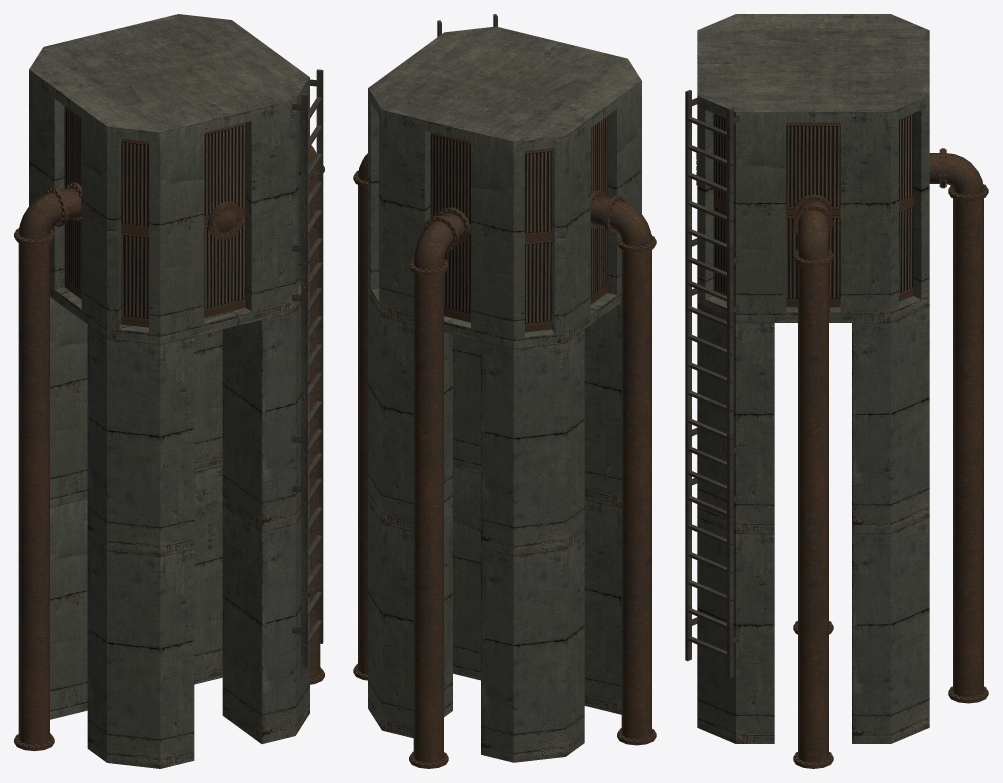
The model's file is boiler_hx_4.obj.
3 views of the same model, side by side, from view 1: azimuth 30°, elevation 25°; view 2: azimuth 150°, elevation 25°; view 3: azimuth 270°, elevation 25° (orthographic). The views are drawn at different scales.
Parts seen in each view (by area): view 1: boiler_hx_4; view 2: boiler_hx_4; view 3: boiler_hx_4.
Part boxes in pixels (bbox=[...]): boiler_hx_4: bbox=[14, 14, 324, 768]; boiler_hx_4: bbox=[353, 14, 656, 768]; boiler_hx_4: bbox=[685, 14, 988, 768].
Bounding box in the file's own units: 4.52 × 9.1 × 3.91.
